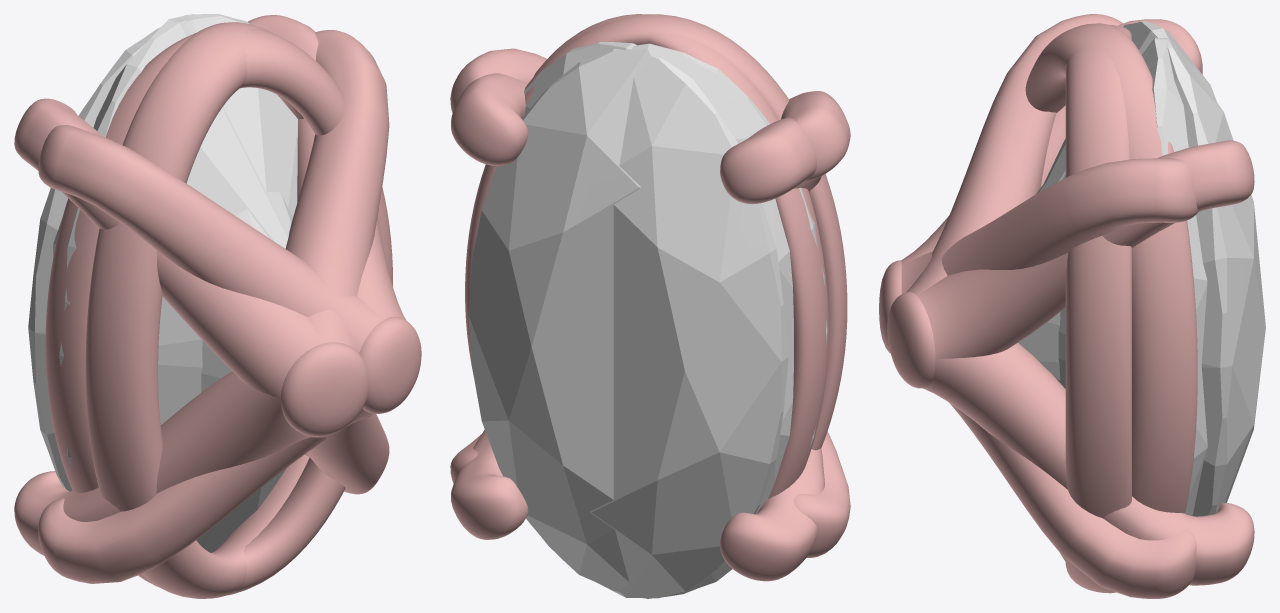
File: HALF-MOON.glb
3 views of the same model, side by side, from view 1: azimuth 30°, elevation 25°; view 2: azimuth 150°, elevation 25°; view 3: azimuth 270°, elevation 25° (orthographic). The views are drawn at different scales.
Visible parts, largest first — view 1: left_stone, right_stone, right_stone_diamond, left_stone_diamond; view 2: right_stone_diamond, left_stone_diamond, left_stone, right_stone; view 3: left_stone, right_stone, left_stone_diamond, right_stone_diamond.
Boxes of the visible parts, left/top/right/bottom form: left_stone: left=38, top=15, right=421, bottom=598; right_stone: left=14, top=29, right=392, bottom=595; right_stone_diamond: left=28, top=14, right=297, bottom=552; left_stone_diamond: left=53, top=14, right=293, bottom=544; right_stone_diamond: left=524, top=42, right=788, bottom=598; left_stone_diamond: left=468, top=43, right=827, bottom=598; left_stone: left=451, top=14, right=850, bottom=557; right_stone: left=450, top=14, right=828, bottom=581; left_stone: left=887, top=14, right=1254, bottom=585; right_stone: left=879, top=19, right=1202, bottom=598; left_stone_diamond: left=1018, top=21, right=1265, bottom=516; right_stone_diamond: left=1036, top=30, right=1216, bottom=515.
Size of the model in its own units: 5.33 by 8.03 by 5.14.
